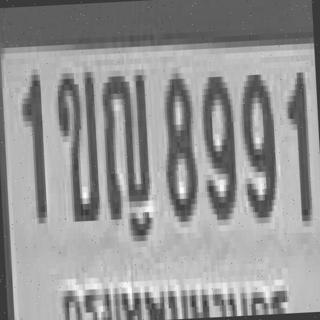A02: (54, 66, 98, 216)
A13: (100, 64, 150, 220)
N01: (18, 69, 45, 219), (284, 66, 310, 216)
N08: (158, 67, 196, 217)
N09: (237, 68, 276, 218), (199, 71, 236, 215)
